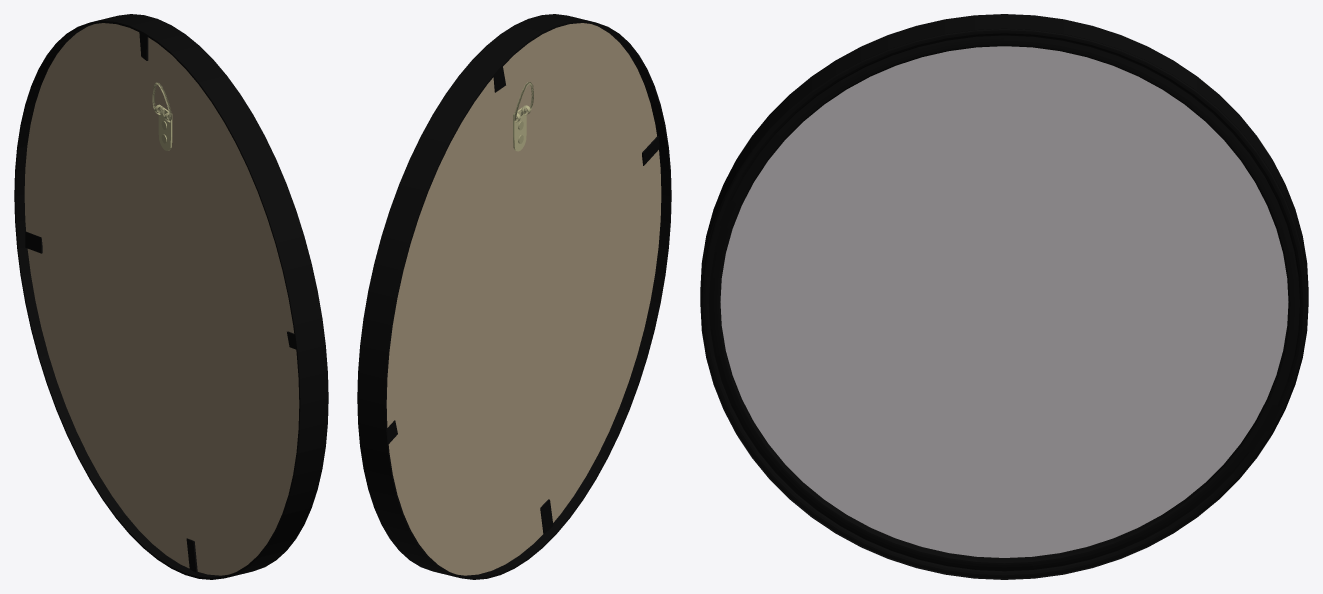
Rendered from mirror.fbx.
The picture shows the model from 3 angles, left to right: view 1: azimuth 30°, elevation 25°; view 2: azimuth 150°, elevation 25°; view 3: azimuth 270°, elevation 25°; orthographic projection. The views are drawn at different scales.
Visible parts, largest first — view 1: Mirror - Round - RUSTA Hugo; view 2: Mirror - Round - RUSTA Hugo; view 3: Mirror - Round - RUSTA Hugo.
Boxes of the visible parts, x1=… form: Mirror - Round - RUSTA Hugo: x1=14, y1=14, x2=328, y2=579; Mirror - Round - RUSTA Hugo: x1=357, y1=14, x2=671, y2=579; Mirror - Round - RUSTA Hugo: x1=700, y1=14, x2=1308, y2=579.
Size of the model in its own units: 20.14 by 350 by 350.
